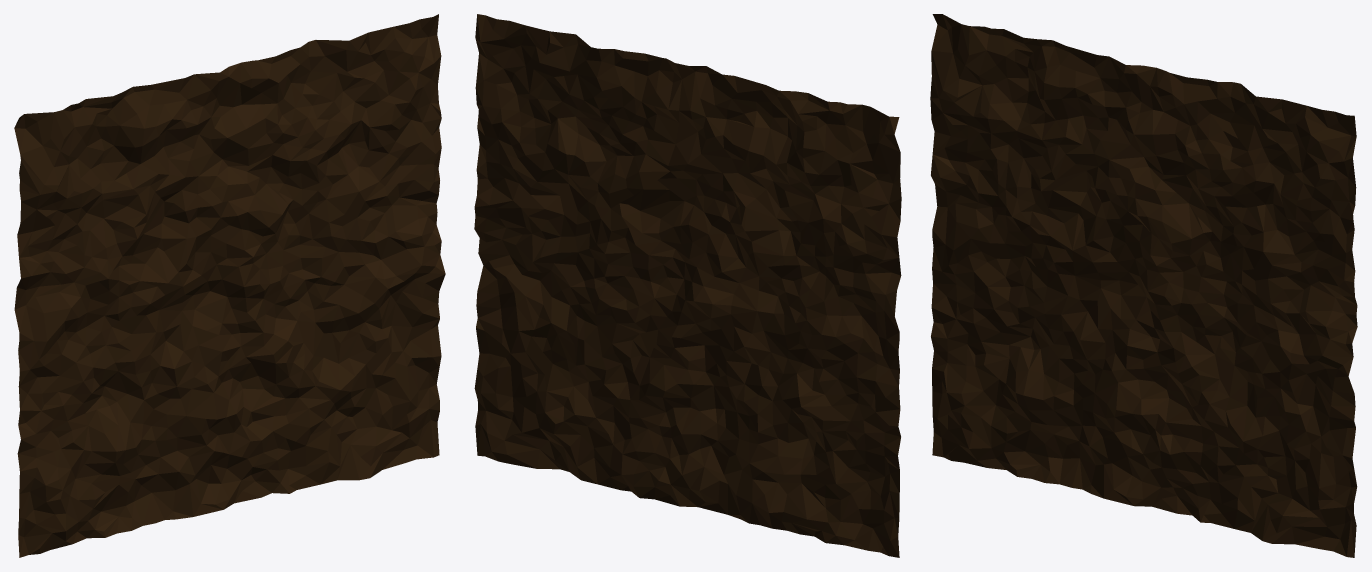
File: dirt_wall.fbx
The picture shows the model from 3 angles, left to right: view 1: azimuth 30°, elevation 25°; view 2: azimuth 150°, elevation 25°; view 3: azimuth 330°, elevation 25°; orthographic projection.
Visible parts, largest first — view 1: Plane; view 2: Plane; view 3: Plane.
Part boxes in pixels (<box>): Plane: <box>14,14,445,557</box>; Plane: <box>474,14,901,557</box>; Plane: <box>930,14,1357,557</box>.
Size of the model in its own units: 874 by 874 by 56.25.
